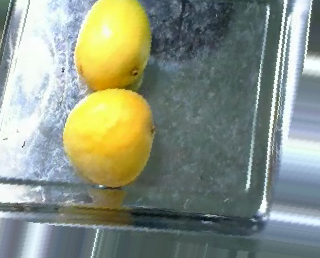Mango: (63, 89, 151, 183), (72, 0, 151, 89)
